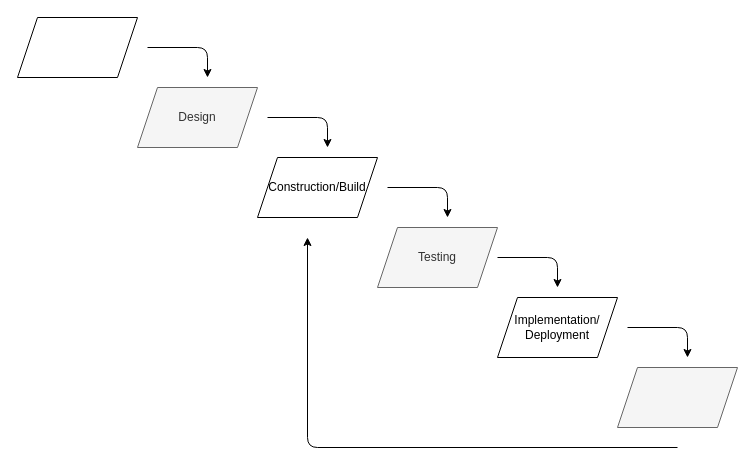
Some shapes in this 755 by 473 pixel diagram are drawn without their labels. The shapes that lost their labels are listed below. From the top down, each one's box as (x1, y1, x2, y2) in pixels, then its label:
(16, 16, 138, 78): Planning/ Analysis
(616, 366, 738, 428): Maintenance/ Support
